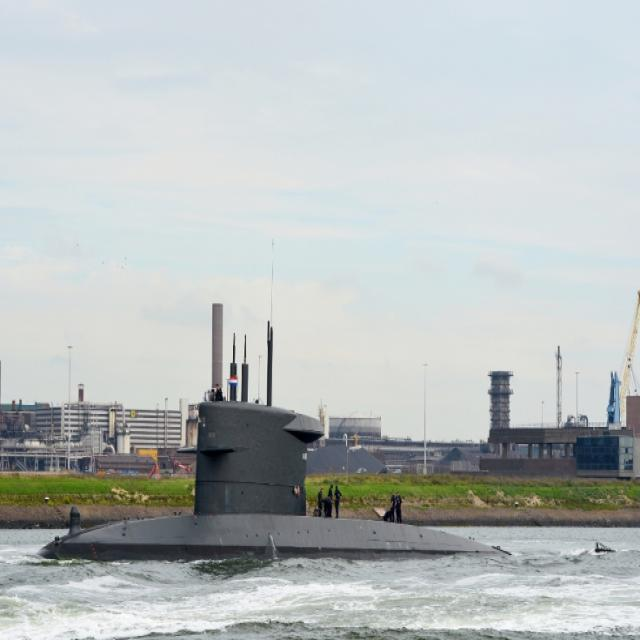submarine: (39, 302, 520, 563)
